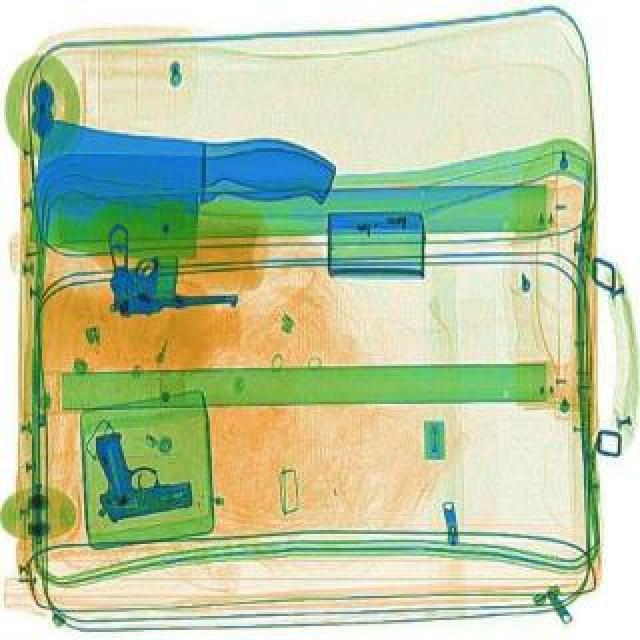gun: (80, 412, 192, 524), (102, 218, 238, 310)
knife: (26, 112, 352, 276), (26, 100, 342, 250)
